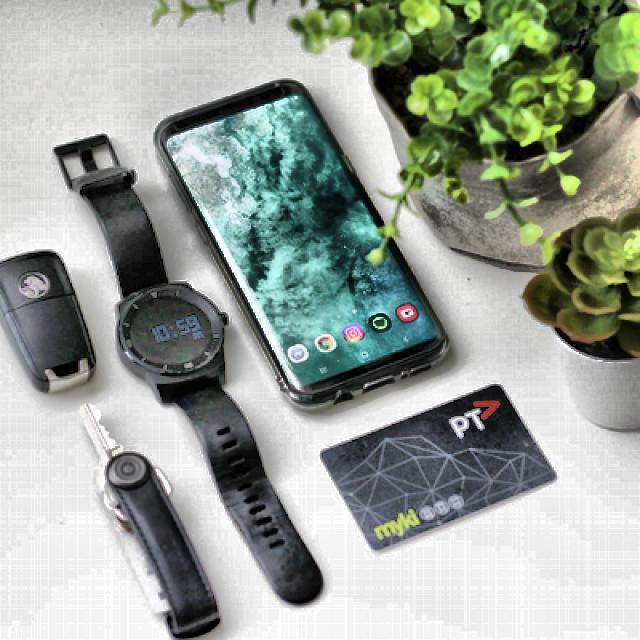Phone: (154, 74, 458, 417)
